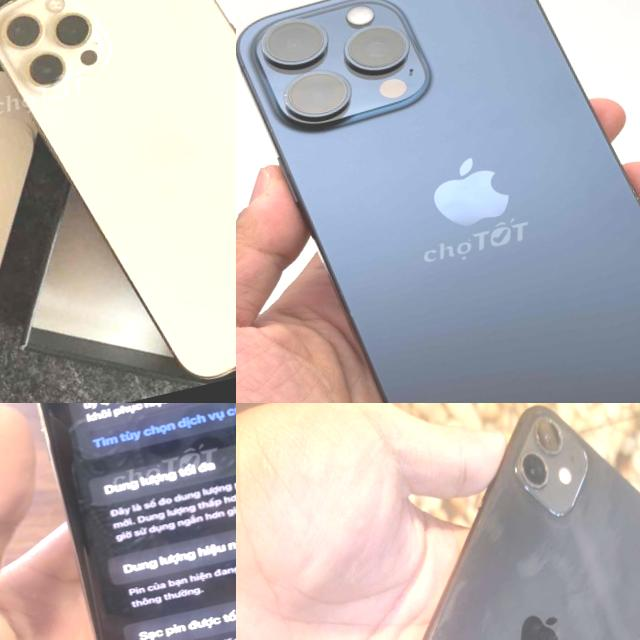gen_11: (423, 405, 640, 640)
gen_12_13: (0, 0, 236, 403)
gen_15: (236, 0, 640, 403)
gen_x_xs: (0, 403, 236, 640)
